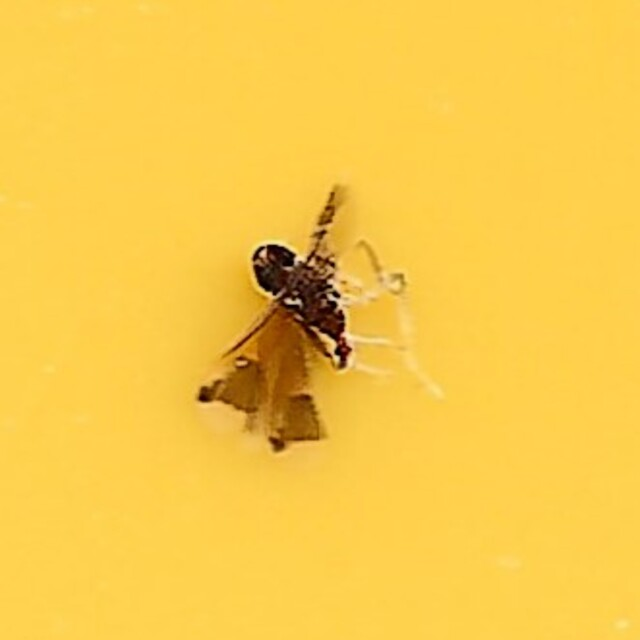Hemiptera: (193, 181, 447, 459)
